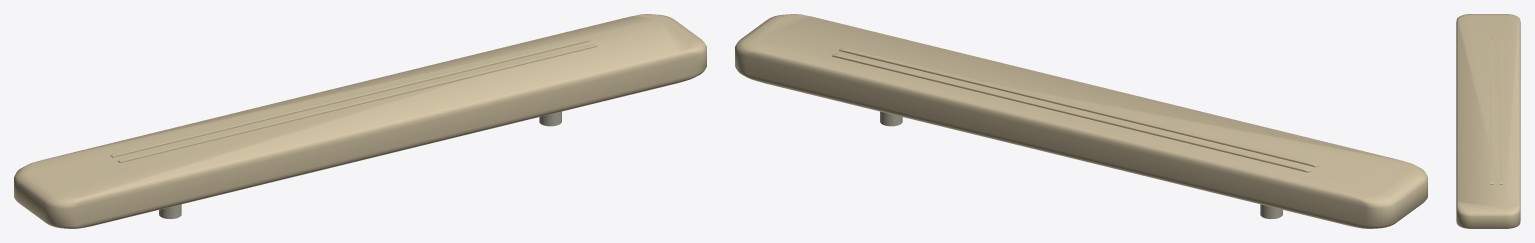
The model's file is Foundry.glb.
The picture shows the model from 3 angles, left to right: view 1: azimuth 30°, elevation 25°; view 2: azimuth 150°, elevation 25°; view 3: azimuth 270°, elevation 25°; orthographic projection. The views are drawn at different scales.
Visible parts, largest first — view 1: Space key, Grip rib (×2); view 2: Space key, Grip rib (×2); view 3: Space key, Grip rib (×2).
Part boxes in pixels (x1,y1,x2,y2): Space key: (14,14,706,228); Grip rib (×2): (110,38,597,162); Space key: (735,14,1427,228); Grip rib (×2): (831,48,1318,172); Space key: (1456,14,1520,228); Grip rib (×2): (1490,38,1502,184).
Size of the model in its own units: 3.12 by 0.288 by 0.42.
